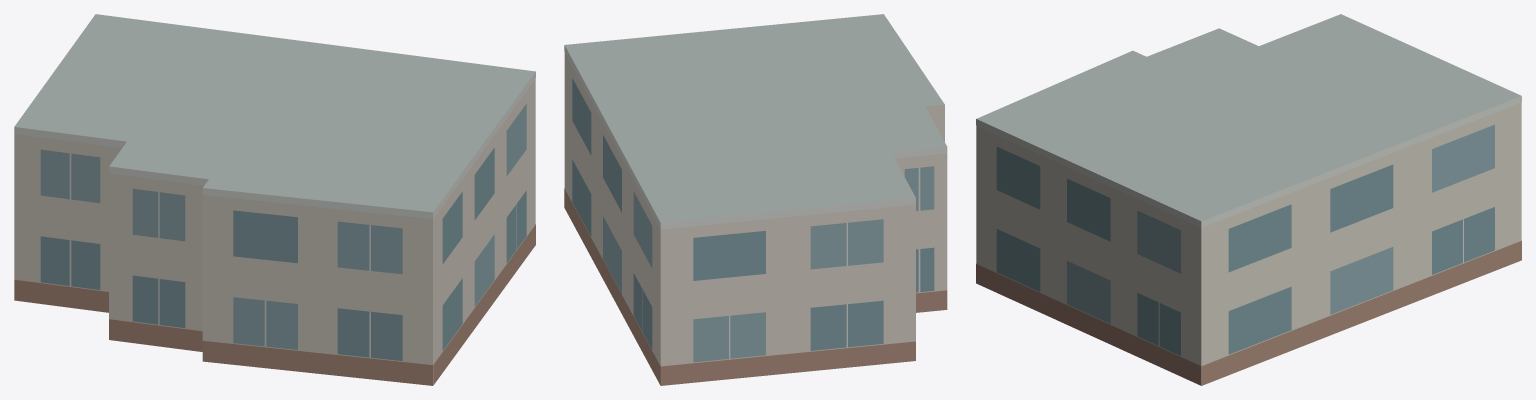
The model's file is survey-upis-32816330.glb.
The picture shows the model from 3 angles, left to right: view 1: azimuth 30°, elevation 25°; view 2: azimuth 150°, elevation 25°; view 3: azimuth 270°, elevation 25°; orthographic projection. The views are drawn at different scales.
Parts seen in each view (by area): view 1: survey-upis-32816330.tmp; view 2: survey-upis-32816330.tmp; view 3: survey-upis-32816330.tmp.
Part boxes in pixels (x1,y1,x2,y2): survey-upis-32816330.tmp: [14, 14, 535, 385]; survey-upis-32816330.tmp: [564, 14, 947, 385]; survey-upis-32816330.tmp: [976, 14, 1521, 385].
Bounding box in the file's own units: 16.49 × 6.1 × 18.33.
